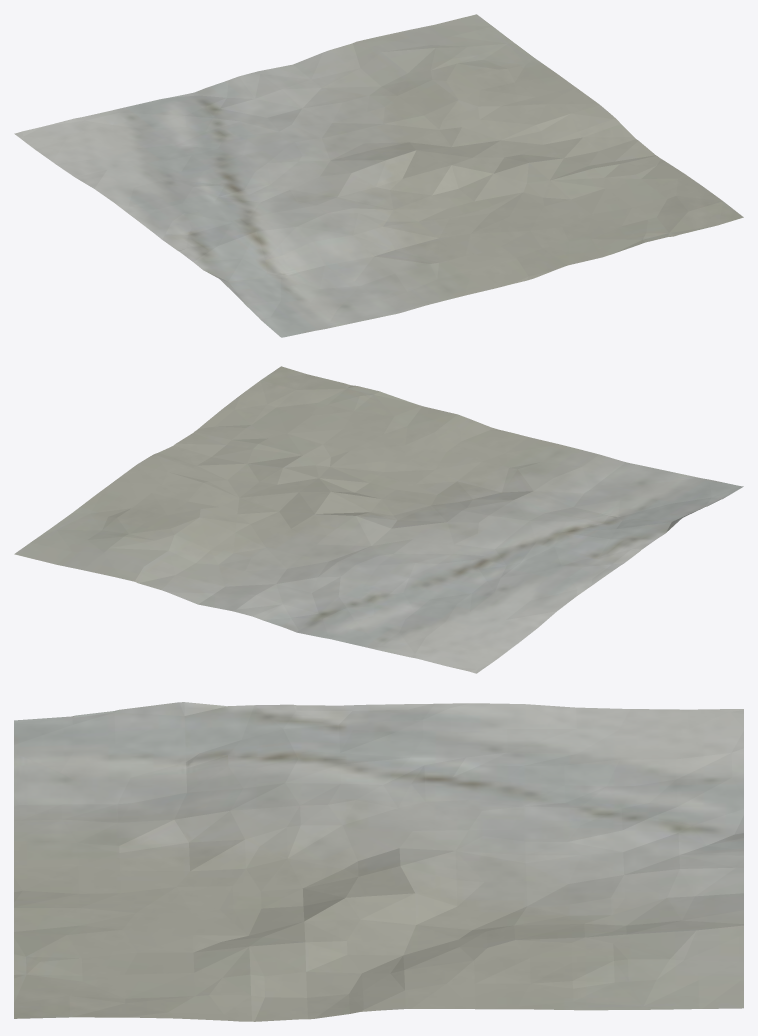
3 renders of one model, top to bottom at view 1: azimuth 30°, elevation 25°; view 2: azimuth 150°, elevation 25°; view 3: azimuth 270°, elevation 25°, orthographic. The views are drawn at different scales.
Bounding box in the file's own units: 52.22 × 2.41 × 52.22.
Materials: 2 (2 with a texture image).
